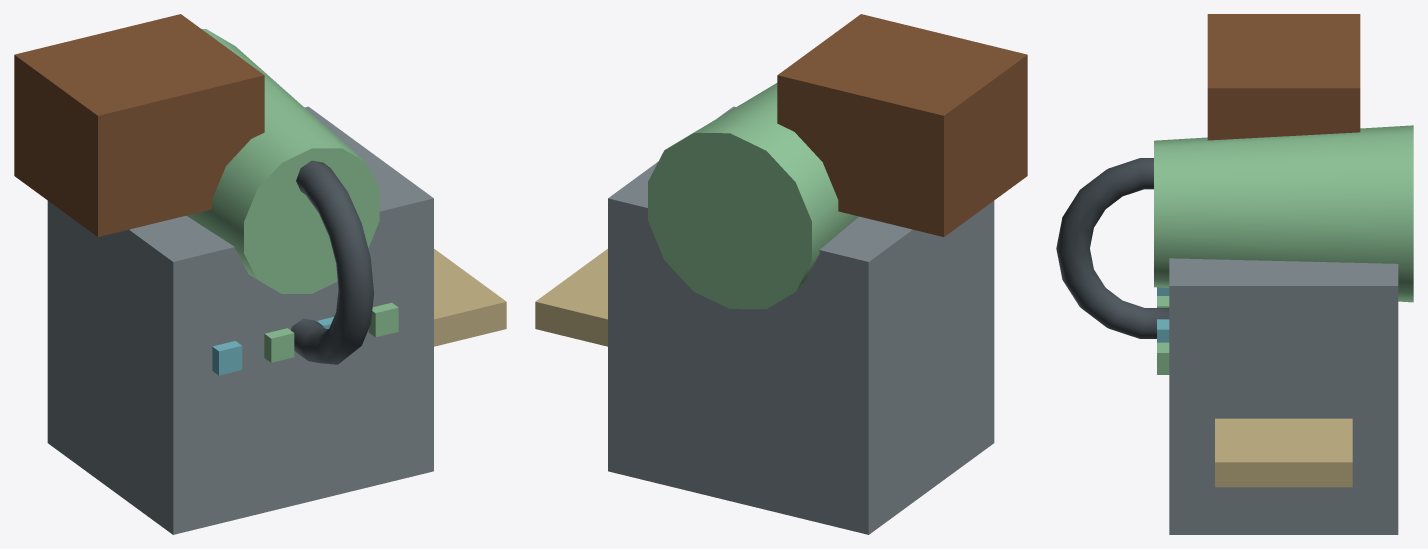
The model's file is smoker.glb.
The picture shows the model from 3 angles, left to right: view 1: azimuth 30°, elevation 25°; view 2: azimuth 150°, elevation 25°; view 3: azimuth 270°, elevation 25°; orthographic projection. The views are drawn at different scales.
Visible parts, largest first — view 1: machine_body, input_hopper, machine_core, wheel, output_tray, control_0, control_1, control_3; view 2: machine_body, input_hopper, machine_core, output_tray; view 3: machine_body, machine_core, input_hopper, output_tray, wheel, control_3.
Boxes of the visible parts, <box> form: machine_body: <box>47,106,433,534</box>; input_hopper: <box>14,14,264,236</box>; machine_core: <box>187,29,379,293</box>; wheel: <box>291,160,373,364</box>; output_tray: <box>434,249,506,346</box>; control_0: <box>212,341,242,375</box>; control_1: <box>264,328,294,362</box>; control_3: <box>368,302,398,337</box>; machine_body: <box>608,106,994,534</box>; input_hopper: <box>777,14,1027,236</box>; machine_core: <box>648,83,858,309</box>; output_tray: <box>535,249,607,346</box>; machine_body: <box>1169,258,1398,534</box>; machine_core: <box>1154,125,1413,302</box>; input_hopper: <box>1207,14,1360,140</box>; output_tray: <box>1215,418,1352,487</box>; wheel: <box>1056,158,1169,338</box>; control_3: <box>1157,342,1169,374</box>.
Size of what is drawn, in the model's own units: 2.85 by 2.75 by 2.34.
